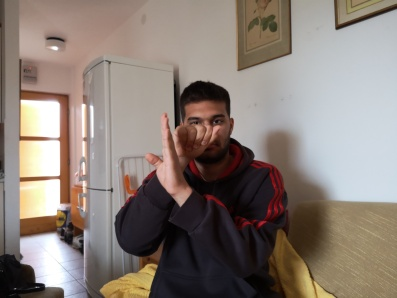A: (169, 123, 224, 158)
